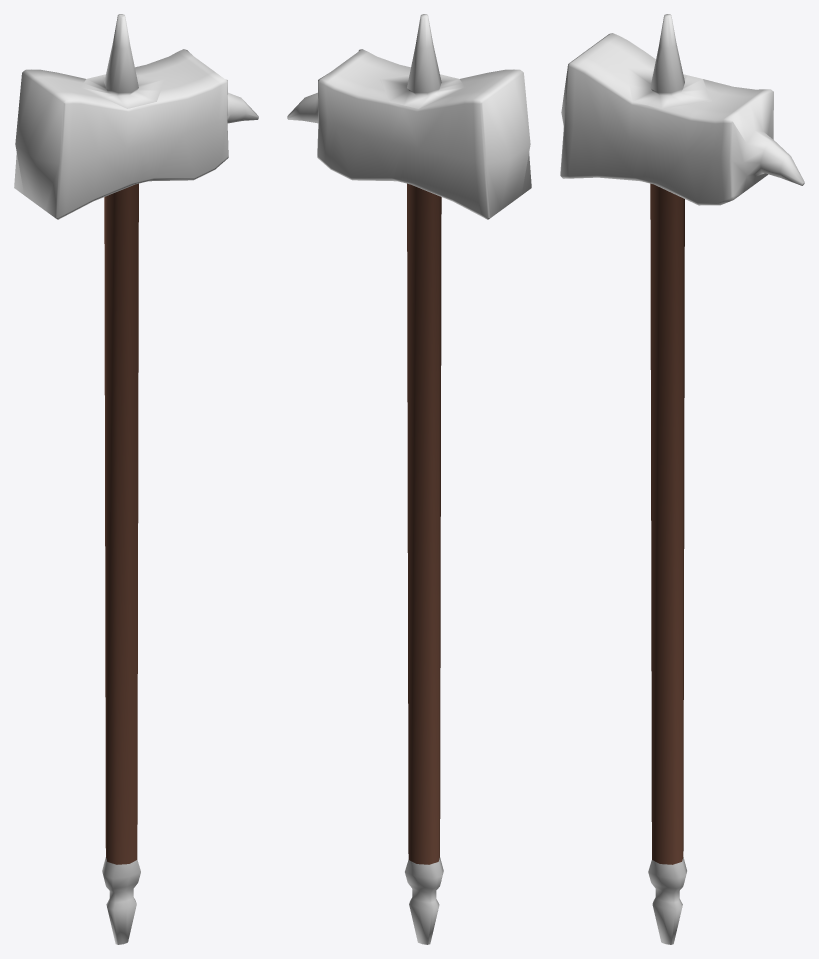
The model's file is Hammer Spiked.fbx.
3 renders of one model, left to right at view 1: azimuth 30°, elevation 25°; view 2: azimuth 150°, elevation 25°; view 3: azimuth 330°, elevation 25°, orthographic.
Parts seen in each view (by area): view 1: Warhammer.001; view 2: Warhammer.001; view 3: Warhammer.001.
Part boxes in pixels (x1=…): Warhammer.001: x1=14, y1=14, x2=258, y2=944; Warhammer.001: x1=287, y1=14, x2=531, y2=944; Warhammer.001: x1=560, y1=14, x2=804, y2=944.
Bounding box in the file's own units: 51.45 × 196 × 16.61.
